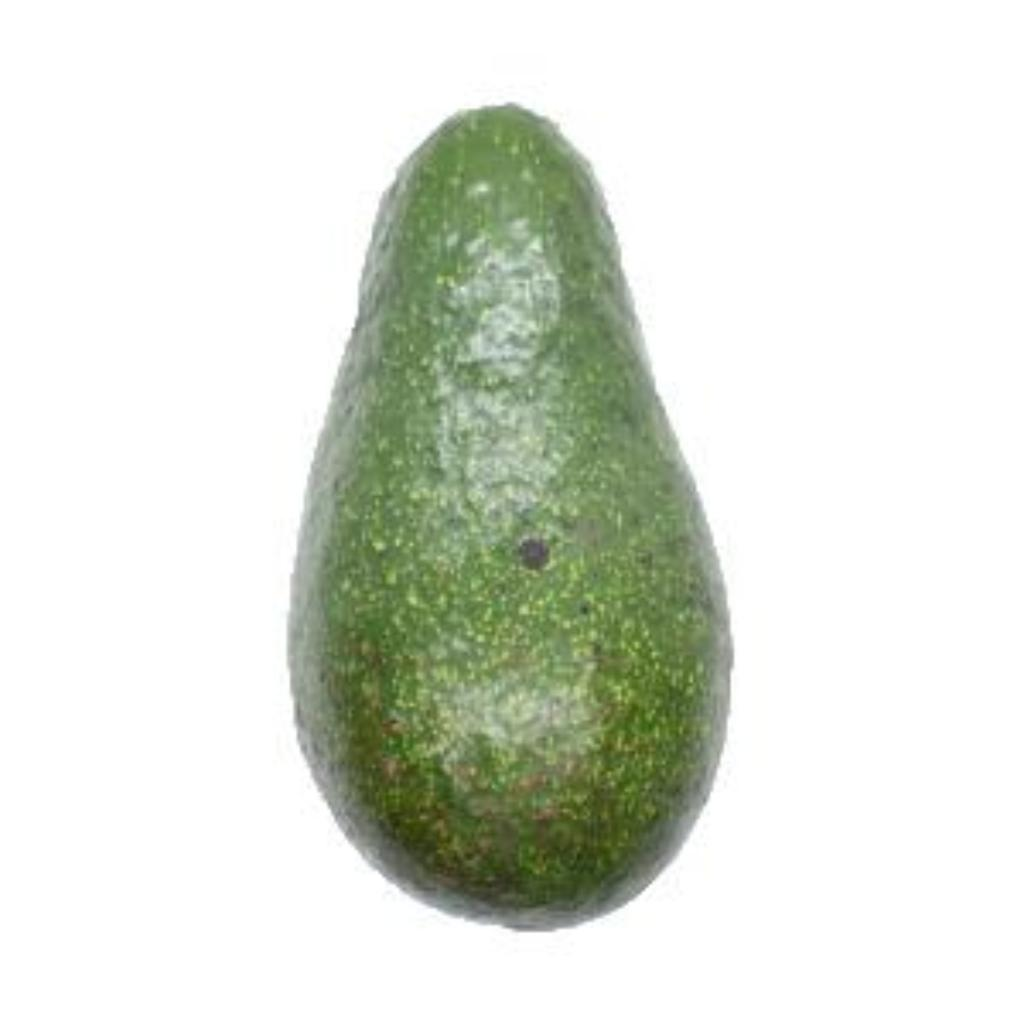cercospora: (186, 50, 910, 968)
